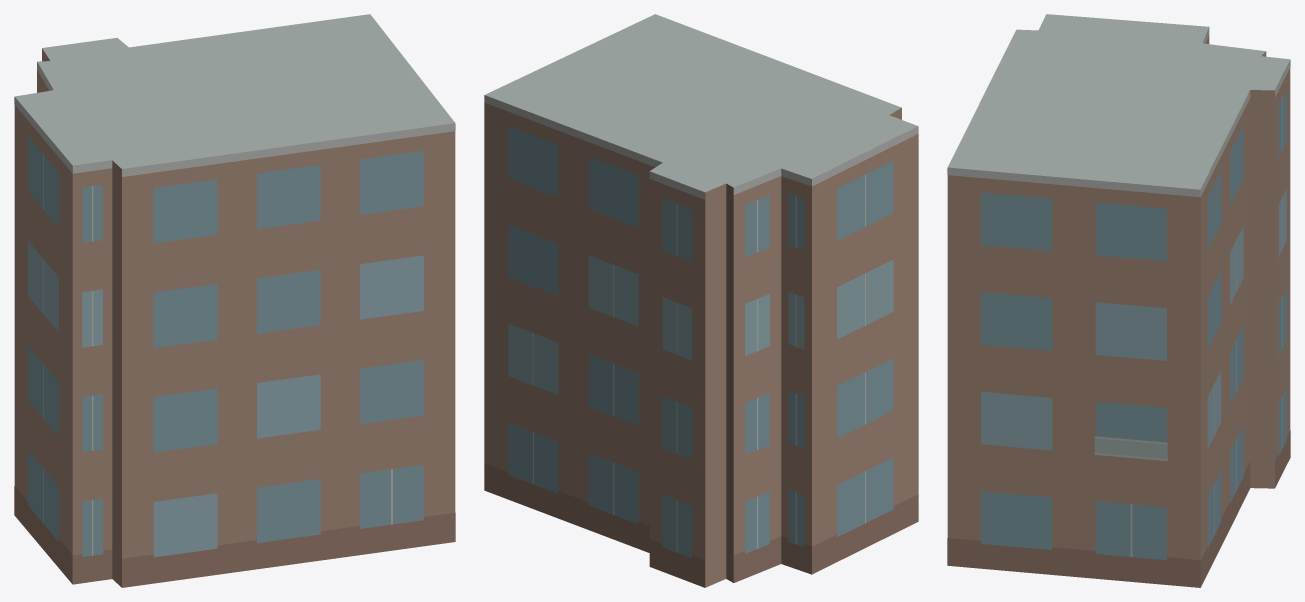
Rendered from survey-upis-33000686.glb.
The picture shows the model from 3 angles, left to right: view 1: azimuth 30°, elevation 25°; view 2: azimuth 150°, elevation 25°; view 3: azimuth 270°, elevation 25°; orthographic projection. The views are drawn at different scales.
Parts seen in each view (by area): view 1: survey-upis-33000686.tmp; view 2: survey-upis-33000686.tmp; view 3: survey-upis-33000686.tmp.
Part boxes in pixels (left/top/right/bottom): survey-upis-33000686.tmp: left=14, top=14, right=455, bottom=587; survey-upis-33000686.tmp: left=484, top=14, right=918, bottom=587; survey-upis-33000686.tmp: left=947, top=14, right=1290, bottom=587.
Size of the model in its own units: 12.12 by 12.8 by 10.
